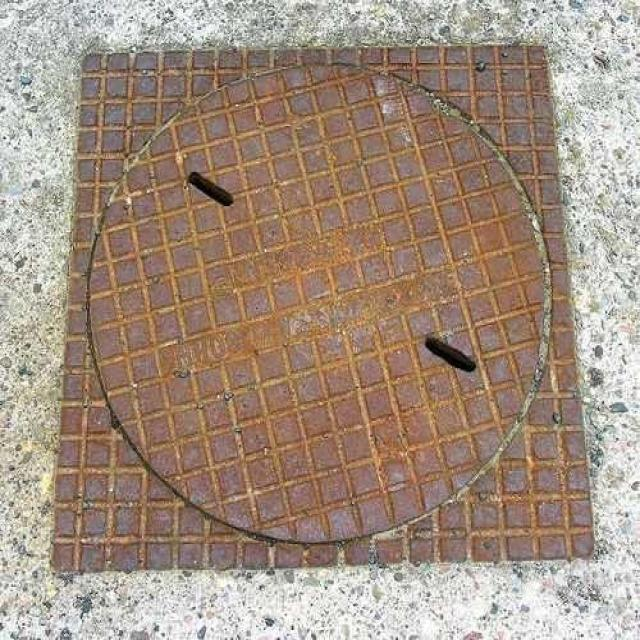manhole: (86, 63, 553, 545)
